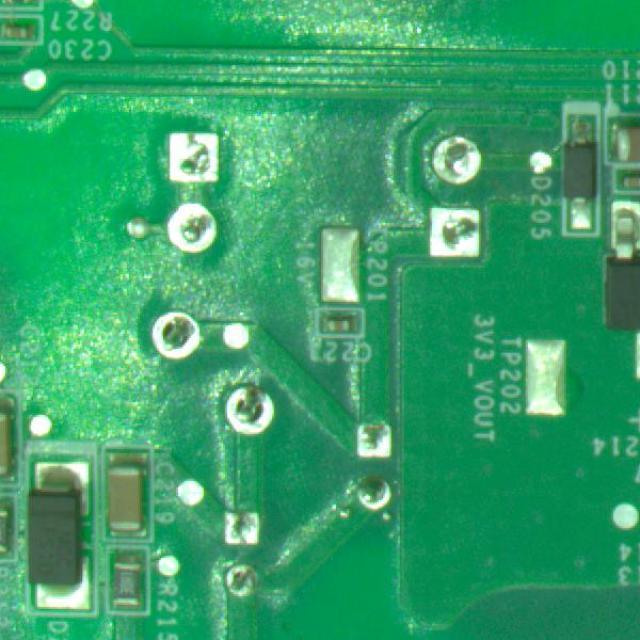Insufficient solder: (157, 115, 226, 189), (140, 298, 210, 368), (414, 200, 489, 262), (415, 130, 494, 180), (224, 378, 272, 438), (159, 203, 219, 250), (215, 506, 262, 554), (354, 412, 398, 458), (353, 473, 400, 510), (226, 565, 264, 603)
